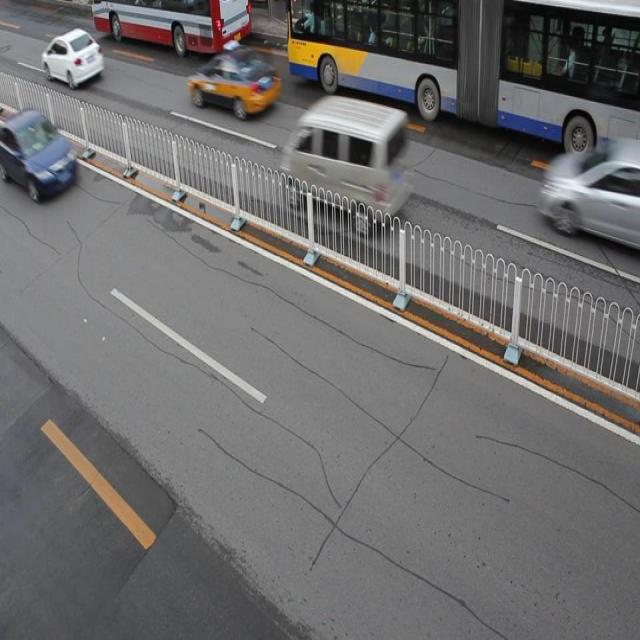car: (1, 106, 78, 202), (188, 46, 282, 120), (42, 28, 104, 87)
truck: (282, 95, 410, 232)
van: (286, 1, 640, 154), (93, 1, 251, 55)
